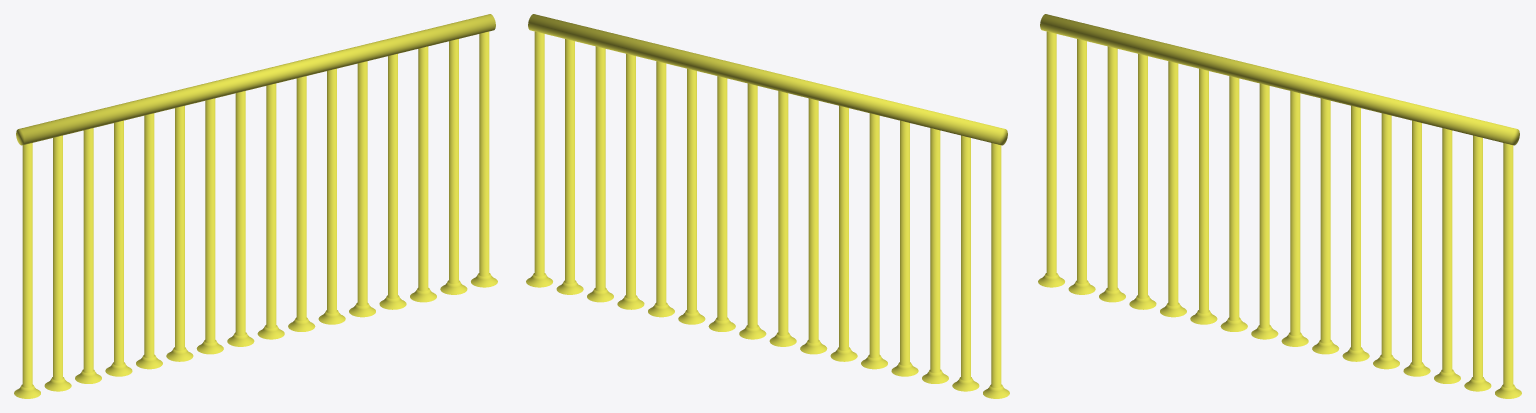
File: railing.fbx
The picture shows the model from 3 angles, left to right: view 1: azimuth 30°, elevation 25°; view 2: azimuth 150°, elevation 25°; view 3: azimuth 330°, elevation 25°; orthographic projection.
Parts seen in each view (by area): view 1: Bar, Pole.008, Pole.006, Pole.013, Pole.015, Pole.004, Pole.007, Pole.011, Pole.002, Pole.009, Pole, Pole.001 (+5 smaller); view 2: Bar, Pole.008, Pole.006, Pole.013, Pole.015, Pole.004, Pole.007, Pole.011, Pole.002, Pole.009, Pole, Pole.001 (+5 smaller); view 3: Bar, Pole.007, Pole.009, Pole.002, Pole, Pole.004, Pole.008, Pole.011, Pole.006, Pole.013, Pole.015, Pole.001 (+5 smaller).
Part boxes in pixels (<box>): Bar: <box>16,14,495,145</box>; Pole.008: <box>257,83,284,339</box>; Pole.006: <box>196,98,223,354</box>; Pole.013: <box>410,46,436,302</box>; Pole.015: <box>471,31,497,287</box>; Pole.004: <box>136,113,162,369</box>; Pole.007: <box>227,91,254,346</box>; Pole.011: <box>349,61,375,317</box>; Pole.002: <box>75,128,101,383</box>; Pole.009: <box>288,76,315,331</box>; Pole: <box>14,143,40,398</box>; Pole.001: <box>44,135,71,391</box>; Bar: <box>528,14,1007,145</box>; Pole.008: <box>739,83,766,339</box>; Pole.006: <box>800,98,827,354</box>; Pole.013: <box>587,46,613,302</box>; Pole.015: <box>526,31,552,287</box>; Pole.004: <box>861,113,887,369</box>; Pole.007: <box>769,91,796,346</box>; Pole.011: <box>648,61,674,317</box>; Pole.002: <box>922,128,948,383</box>; Pole.009: <box>708,76,735,331</box>; Pole: <box>983,143,1009,398</box>; Pole.001: <box>952,135,979,391</box>; Bar: <box>1040,14,1519,145</box>; Pole.007: <box>1251,83,1278,339</box>; Pole.009: <box>1312,98,1339,354</box>; Pole.002: <box>1099,46,1125,302</box>; Pole: <box>1038,31,1064,287</box>; Pole.004: <box>1160,61,1186,317</box>; Pole.008: <box>1281,91,1308,346</box>; Pole.011: <box>1373,113,1399,369</box>; Pole.006: <box>1220,76,1247,331</box>; Pole.013: <box>1434,128,1460,383</box>; Pole.015: <box>1495,143,1521,398</box>; Pole.001: <box>1068,39,1095,294</box>.
Size of the model in its own units: 631 by 333 by 30.89.
